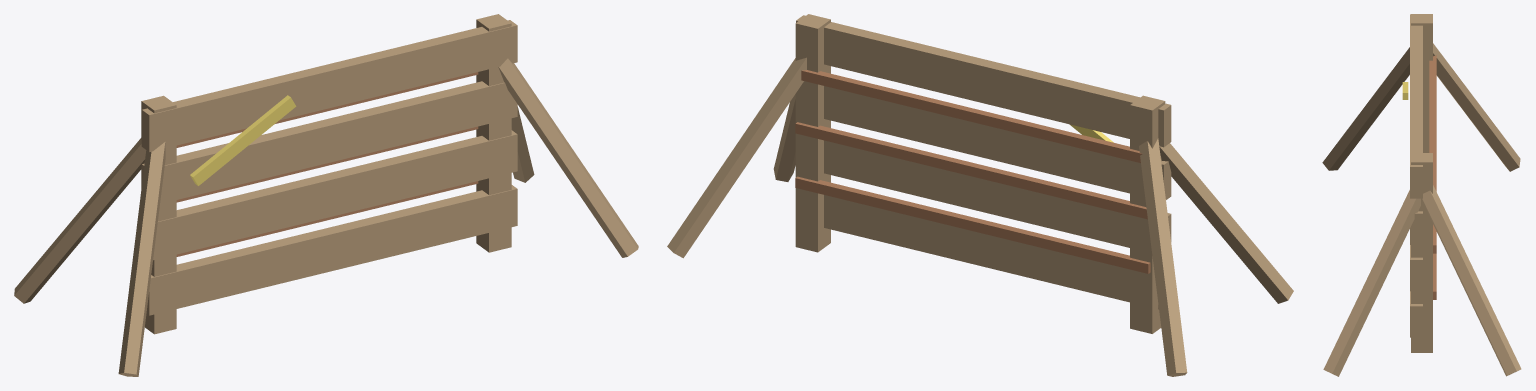
The model's file is WoodenBarricade.glb.
3 views of the same model, side by side, from view 1: azimuth 30°, elevation 25°; view 2: azimuth 150°, elevation 25°; view 3: azimuth 270°, elevation 25° (orthographic). The views are drawn at different scales.
Visible parts, largest first — view 1: wooden-barricade; view 2: wooden-barricade; view 3: wooden-barricade.
Boxes of the visible parts, x1,y1,x2,y2 form: wooden-barricade: [14, 14, 638, 376]; wooden-barricade: [667, 14, 1293, 376]; wooden-barricade: [1322, 14, 1521, 376].
Bounding box in the file's own units: 2.79 × 1.15 × 1.09.
